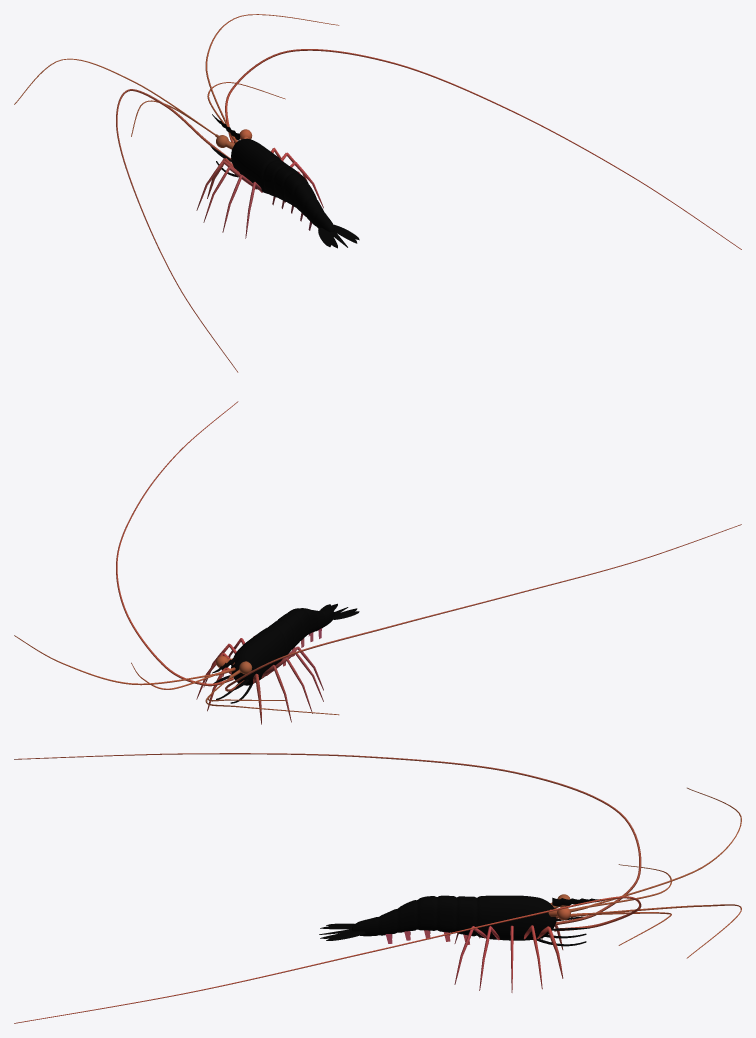
Rendered from shrimp_cleaner.glb.
3 renders of one model, top to bottom at view 1: azimuth 30°, elevation 25°; view 2: azimuth 150°, elevation 25°; view 3: azimuth 270°, elevation 25°, orthographic. The views are drawn at different scales.
Parts seen in each view (by area): view 1: shrimp_cleaner; view 2: shrimp_cleaner; view 3: shrimp_cleaner.
Part boxes in pixels (x1,y1,x2,y2): shrimp_cleaner: (14, 14, 741, 372); shrimp_cleaner: (14, 401, 741, 724); shrimp_cleaner: (14, 753, 741, 1023).
Size of the model in its own units: 0.1242 by 0.0262 by 0.1445.
